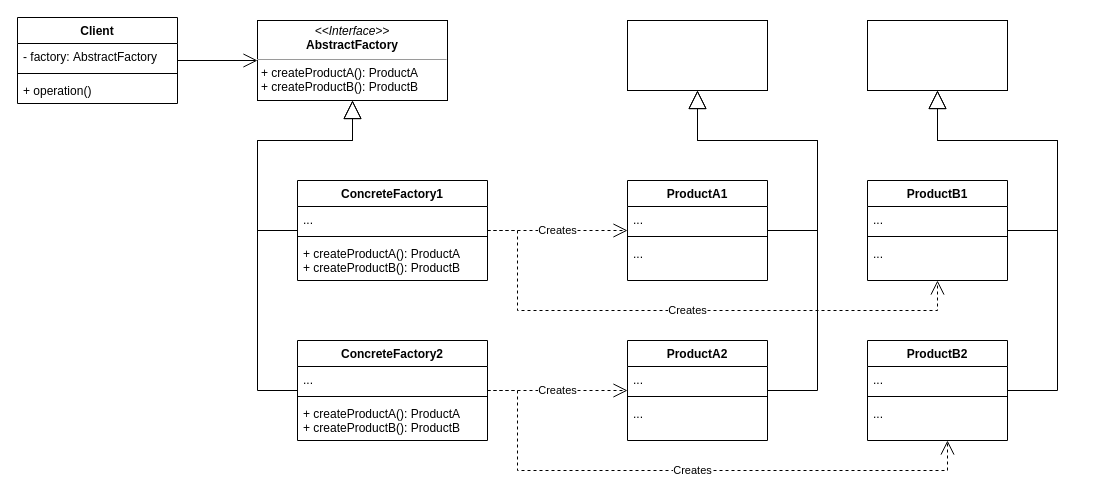
Some shapes in this 1093 by 502 pixel diagram are drawn without their labels. The shapes that lost their labels are listed below. From the top down, each one's centre as x and y in pixels, then its label:
At point (697, 55): "<<Interface>> ProductA ...".
At point (937, 55): "<<Interface>> ProductB ...".
